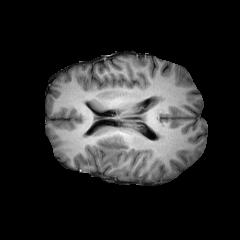glioma: (83, 132, 129, 169)
